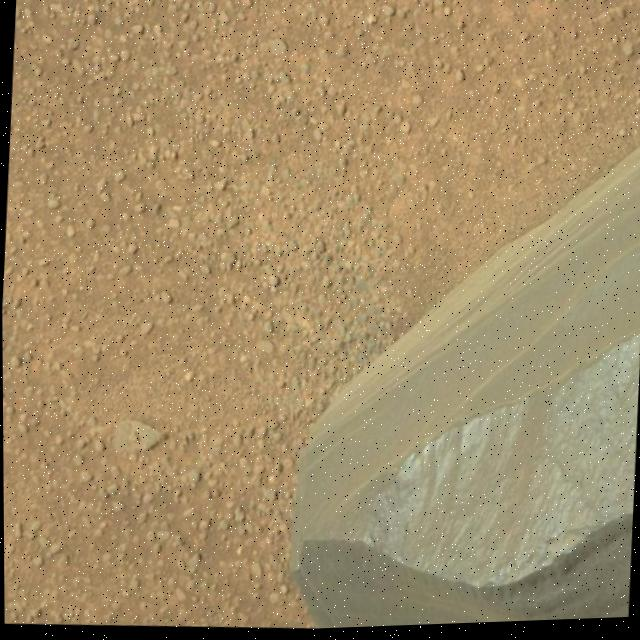mars-rocks: (292, 153, 640, 631)
